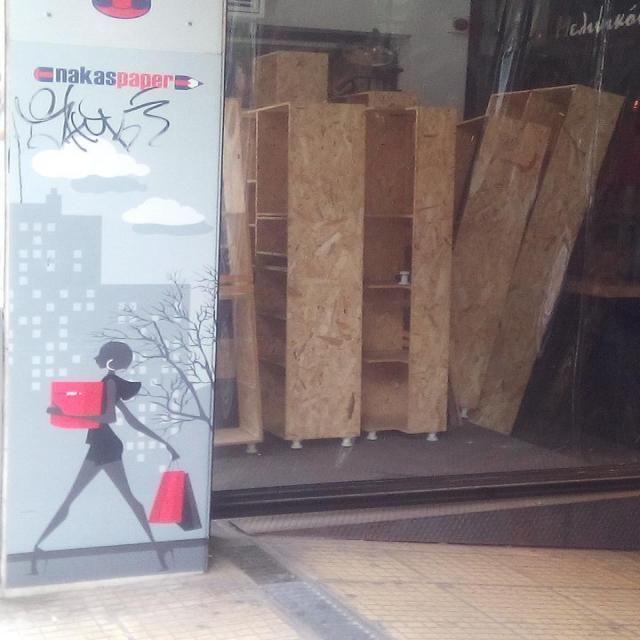nonspitting: (16, 84, 170, 152)
